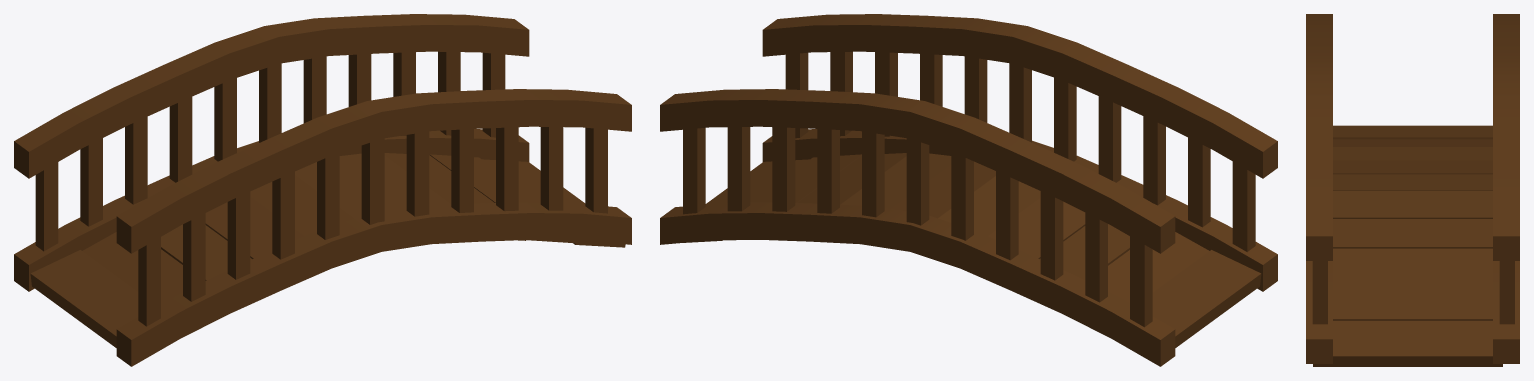
Rendered from Bridge 5.fbx.
The picture shows the model from 3 angles, left to right: view 1: azimuth 30°, elevation 25°; view 2: azimuth 150°, elevation 25°; view 3: azimuth 270°, elevation 25°; orthographic projection. The views are drawn at different scales.
Visible parts, largest first — view 1: Bridge_5; view 2: Bridge_5; view 3: Bridge_5.
Boxes of the visible parts, x1=… form: Bridge_5: x1=14, y1=14, x2=631, y2=366; Bridge_5: x1=660, y1=14, x2=1277, y2=366; Bridge_5: x1=1306, y1=14, x2=1519, y2=366.
Bounding box in the file's own units: 992 × 377 × 403.
Materials: 1 (1 with a texture image).
